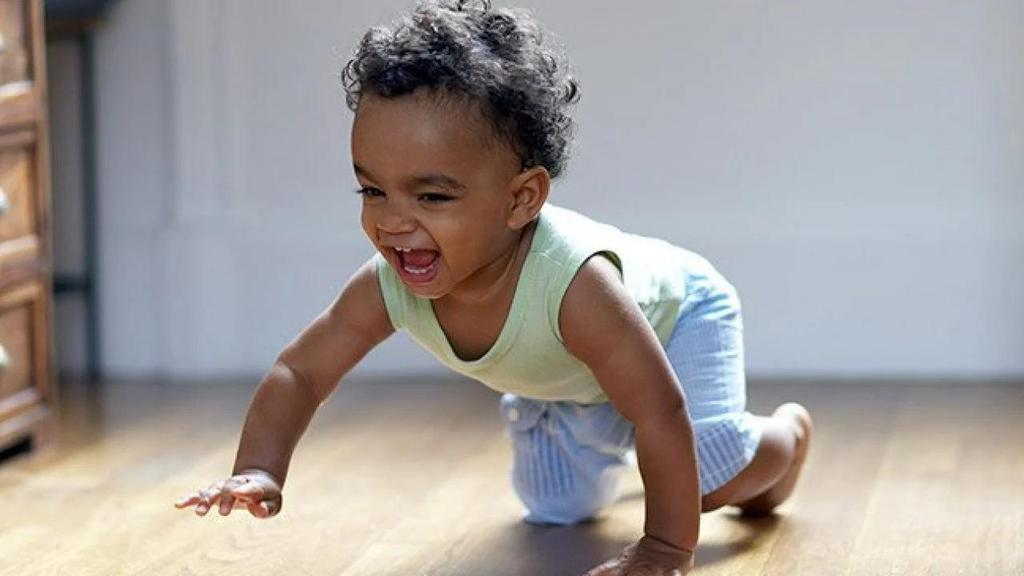child: (164, 2, 819, 576)
